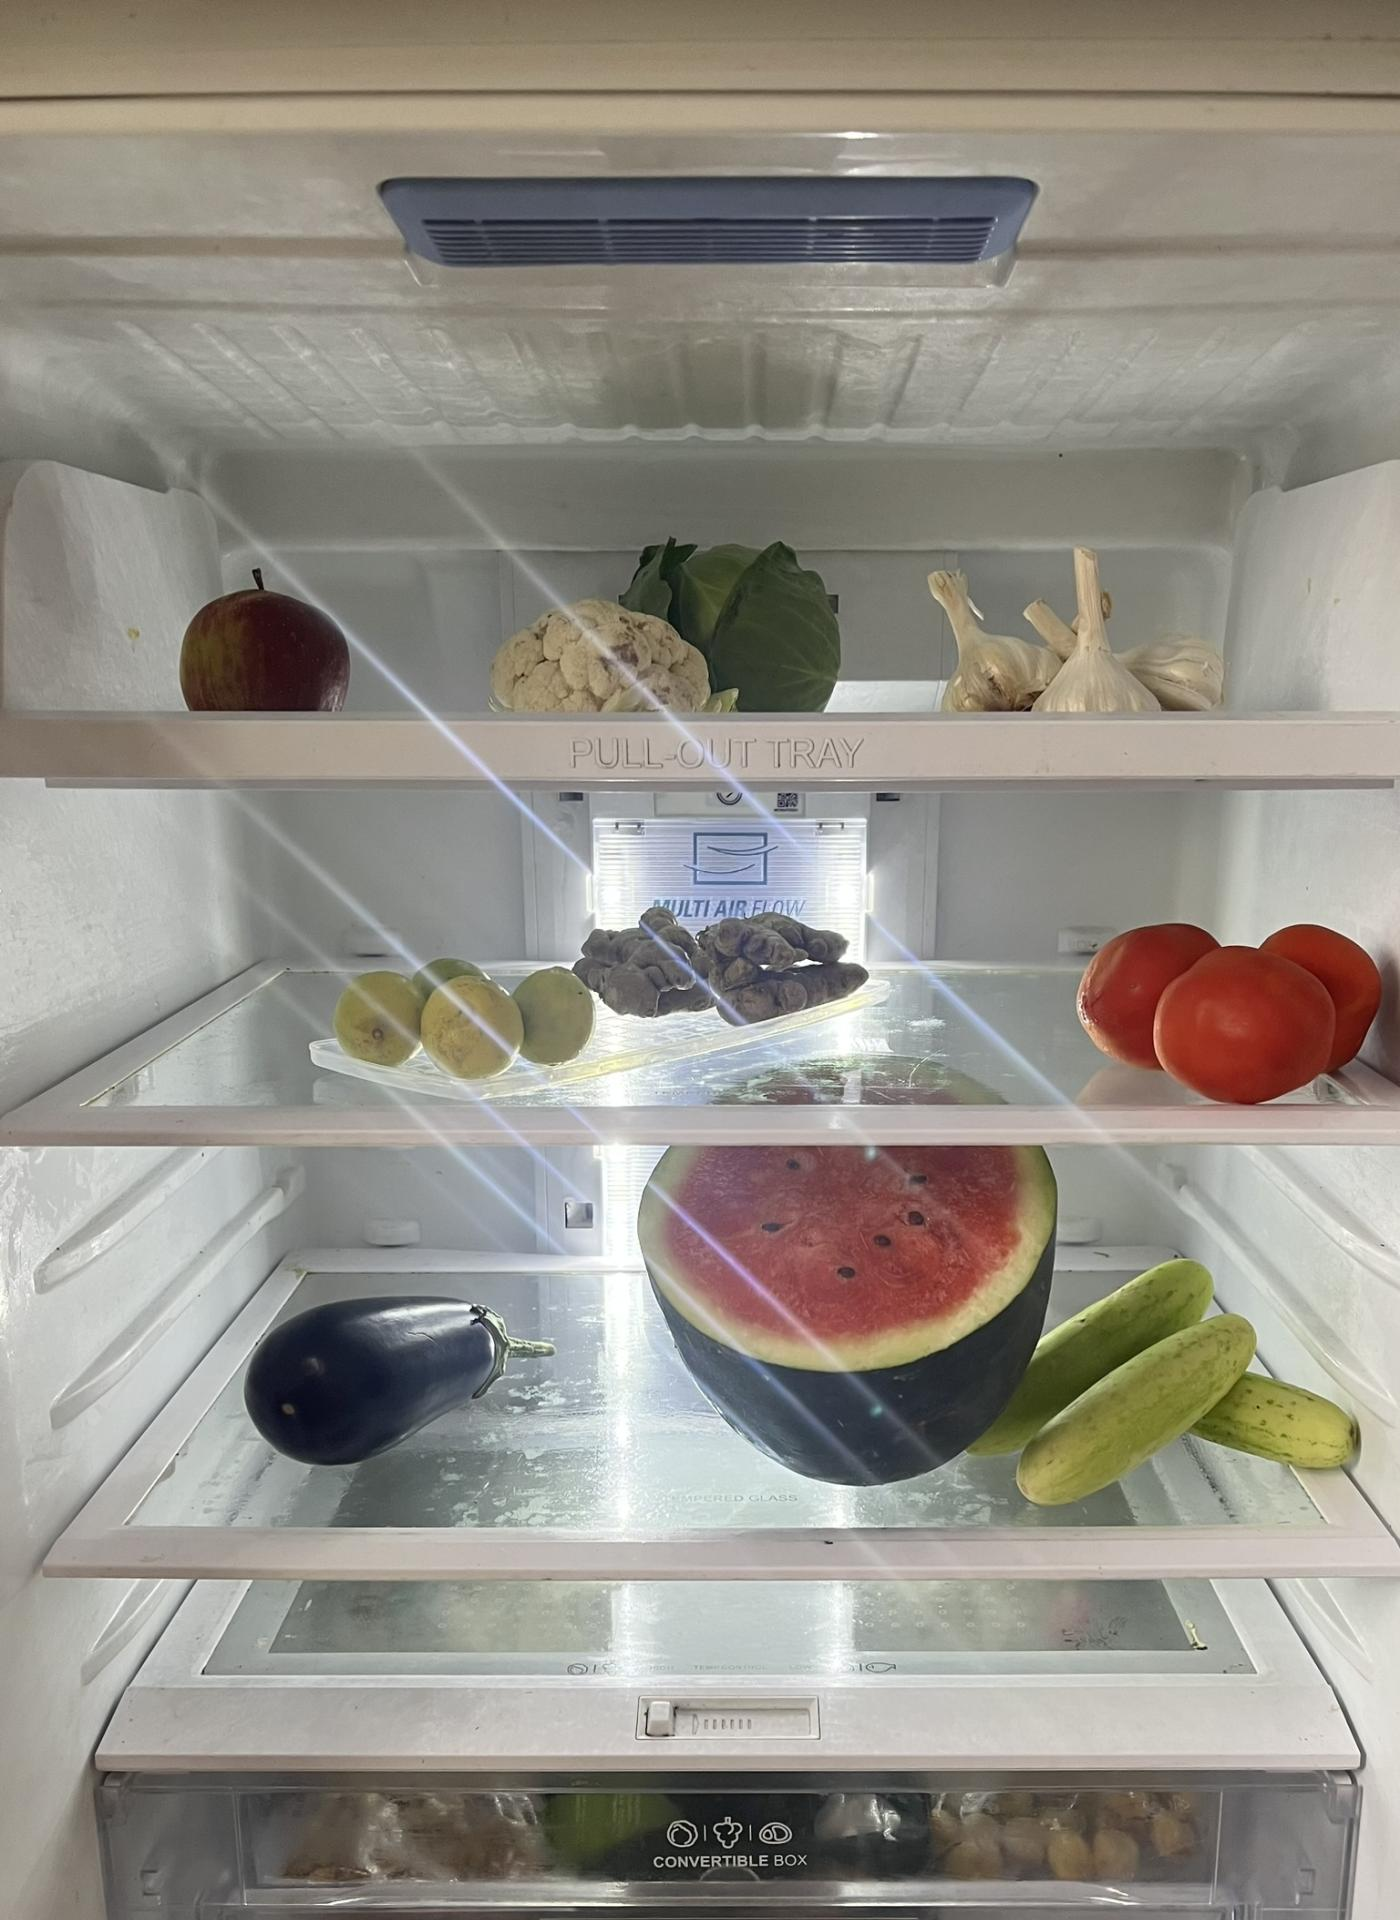apple: (177, 562, 359, 717)
brinjal: (242, 1292, 564, 1462)
cabbage: (643, 537, 848, 713)
cauliflower: (480, 593, 723, 714)
cucumber: (984, 1252, 1363, 1492)
garlic: (933, 549, 1230, 716)
ginger: (580, 908, 874, 1032)
lemon: (327, 954, 593, 1081)
tomato: (1076, 911, 1384, 1093)
watermelon: (629, 1069, 1057, 1483)
